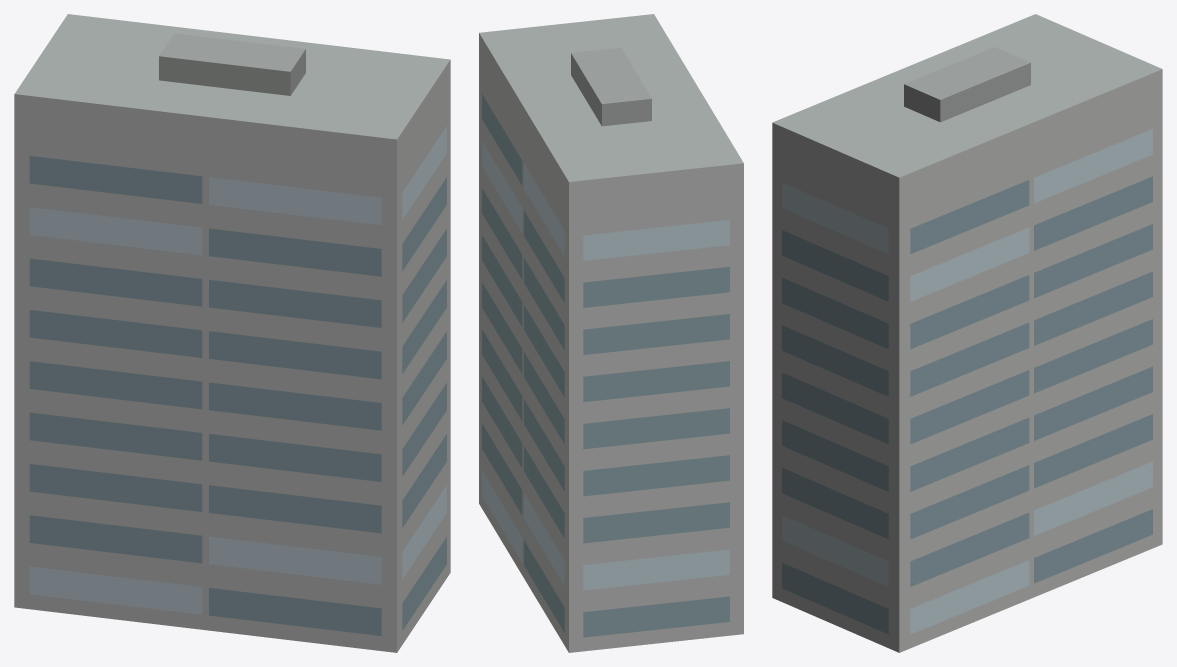
Rendered from fallback-dmc-raemian-e-pyeonhansesang-407.glb.
The picture shows the model from 3 angles, left to right: view 1: azimuth 30°, elevation 25°; view 2: azimuth 150°, elevation 25°; view 3: azimuth 270°, elevation 25°; orthographic projection. The views are drawn at different scales.
Parts seen in each view (by area): view 1: fallback-dmc-raemian-e-pyeonhansesang-407; view 2: fallback-dmc-raemian-e-pyeonhansesang-407; view 3: fallback-dmc-raemian-e-pyeonhansesang-407.
Part boxes in pixels (left/top/right/bottom): fallback-dmc-raemian-e-pyeonhansesang-407: left=14, top=14, right=450, bottom=652; fallback-dmc-raemian-e-pyeonhansesang-407: left=479, top=14, right=743, bottom=652; fallback-dmc-raemian-e-pyeonhansesang-407: left=772, top=14, right=1162, bottom=652.
Size of the model in its own units: 21.87 by 31 by 22.05.
